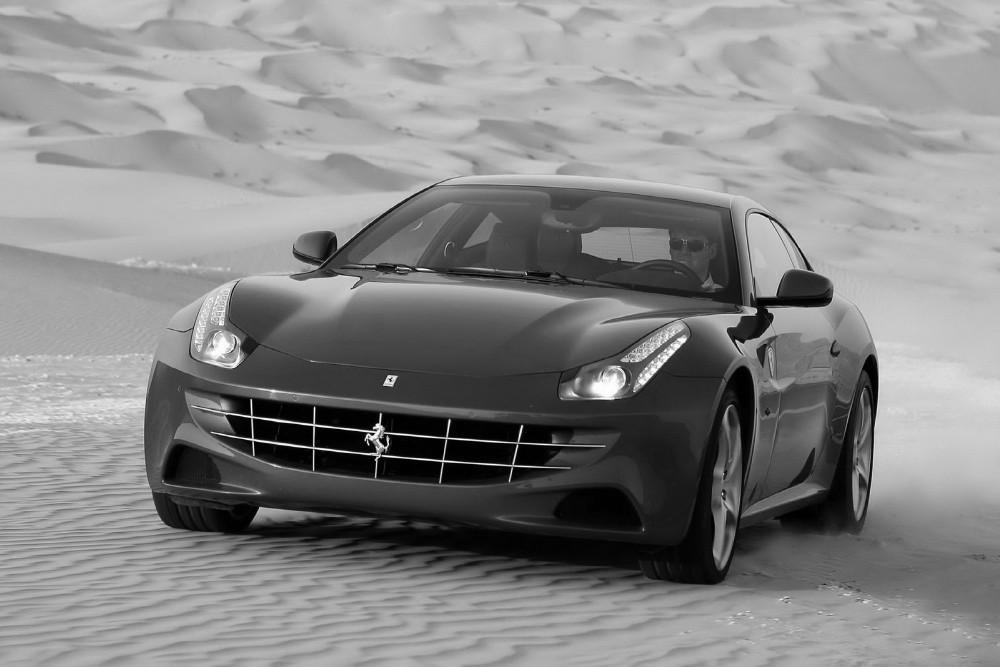car: (141, 174, 883, 586)
